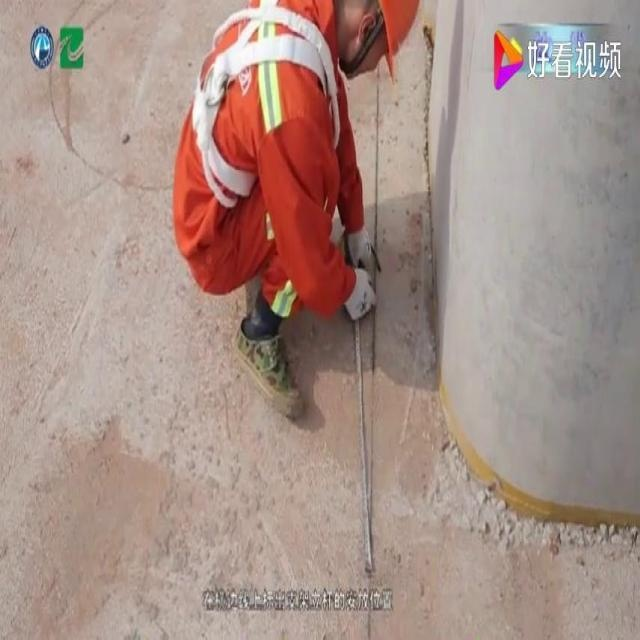Arnes_seguridad: (189, 0, 347, 215)
